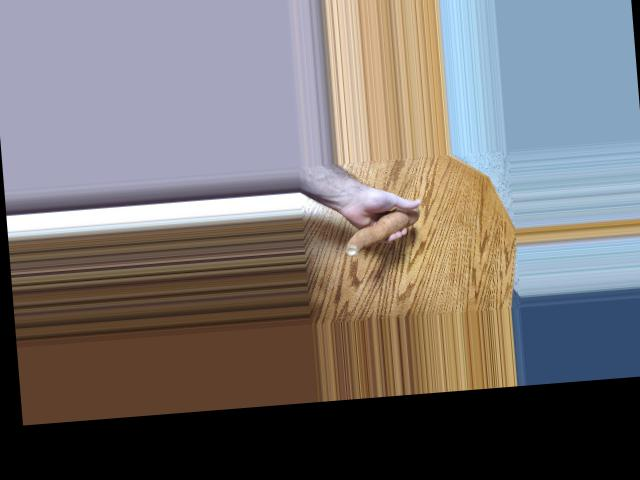sweet_potato: (339, 208, 419, 256)
